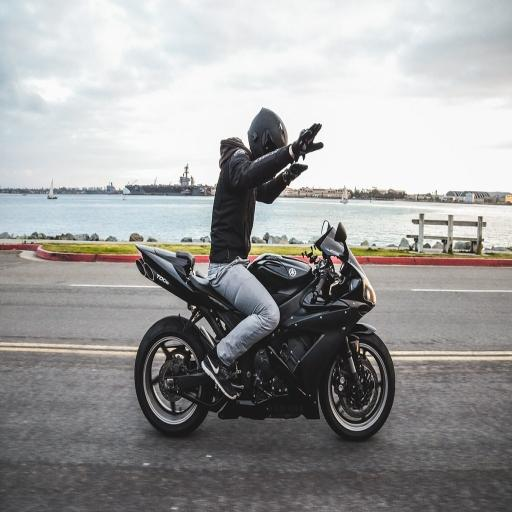Helmet: (246, 106, 288, 160)
